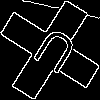U: (25, 25, 81, 84)
